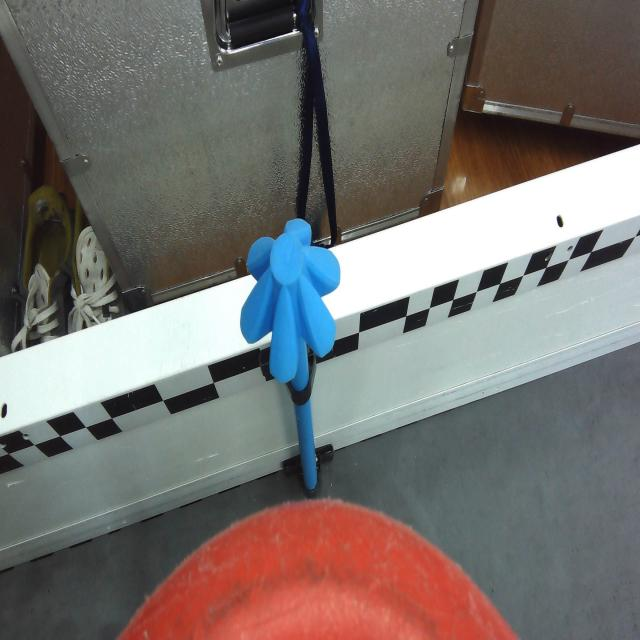zblue-Stake-Head: (242, 219, 342, 382)
